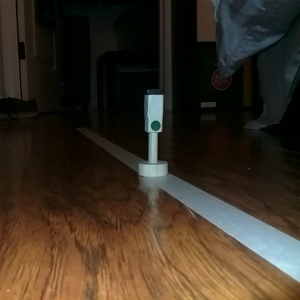traffic light green: (134, 86, 170, 180)
